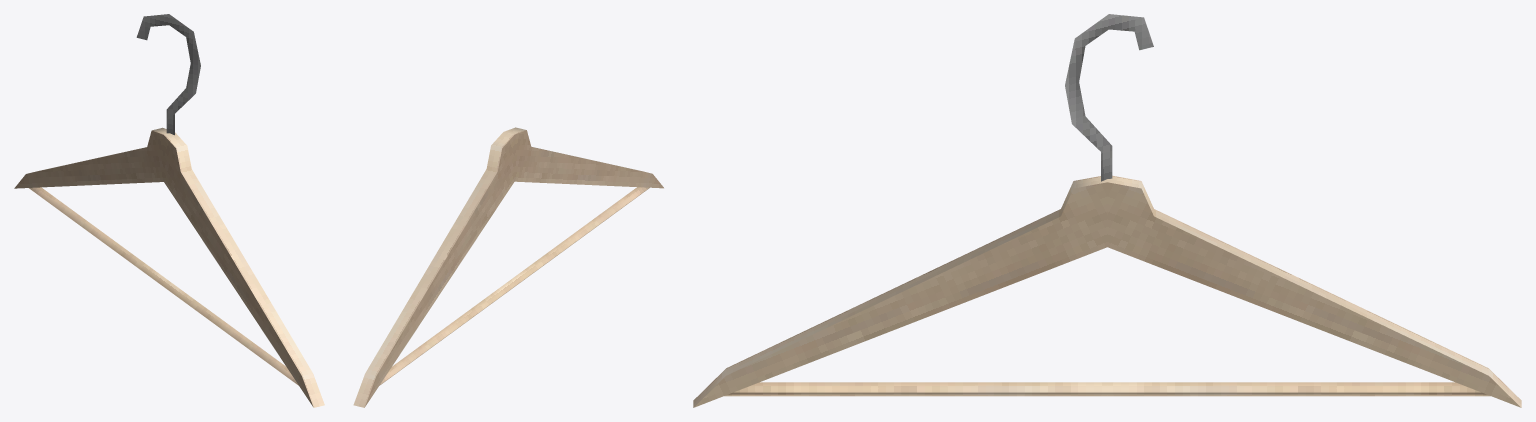
File: Hanger002.glb
3 renders of one model, left to right at view 1: azimuth 30°, elevation 25°; view 2: azimuth 150°, elevation 25°; view 3: azimuth 270°, elevation 25°, orthographic. The views are drawn at different scales.
Visible parts, largest first — view 1: hanger.002; view 2: hanger.002; view 3: hanger.002.
Boxes of the visible parts, x1,y1,x2,y2 form: hanger.002: [14, 14, 324, 407]; hanger.002: [353, 127, 663, 407]; hanger.002: [693, 14, 1521, 407].
Bounding box in the file's own units: 0.0276 × 0.2308 × 0.4437.
1 material, 1 textured.
